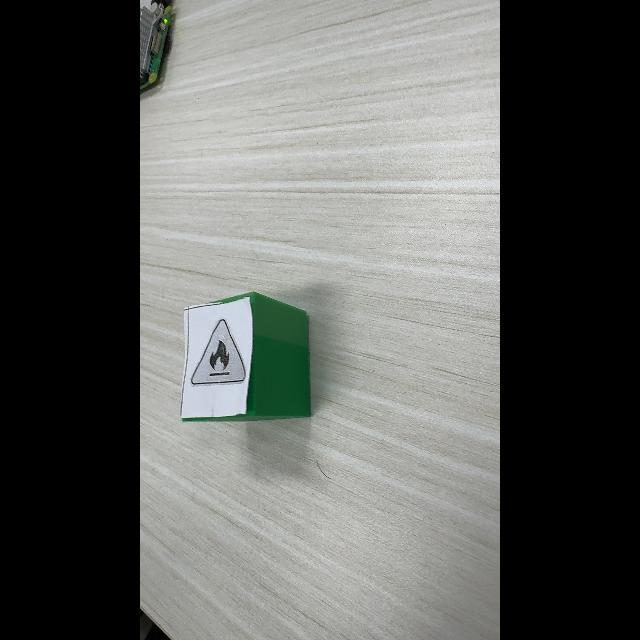Fire: (191, 319, 245, 385)
